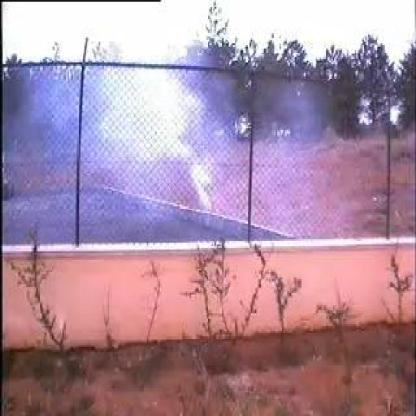-: (41, 68, 258, 244)
